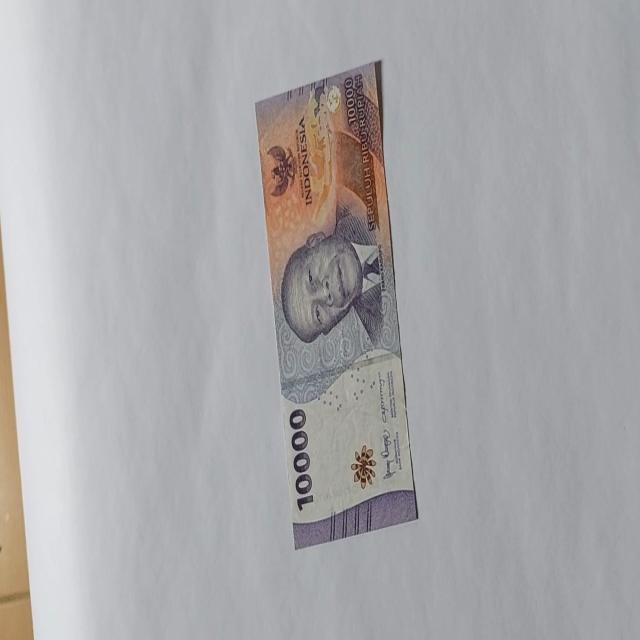sepuluh ribu rupiah: (254, 59, 418, 550)
